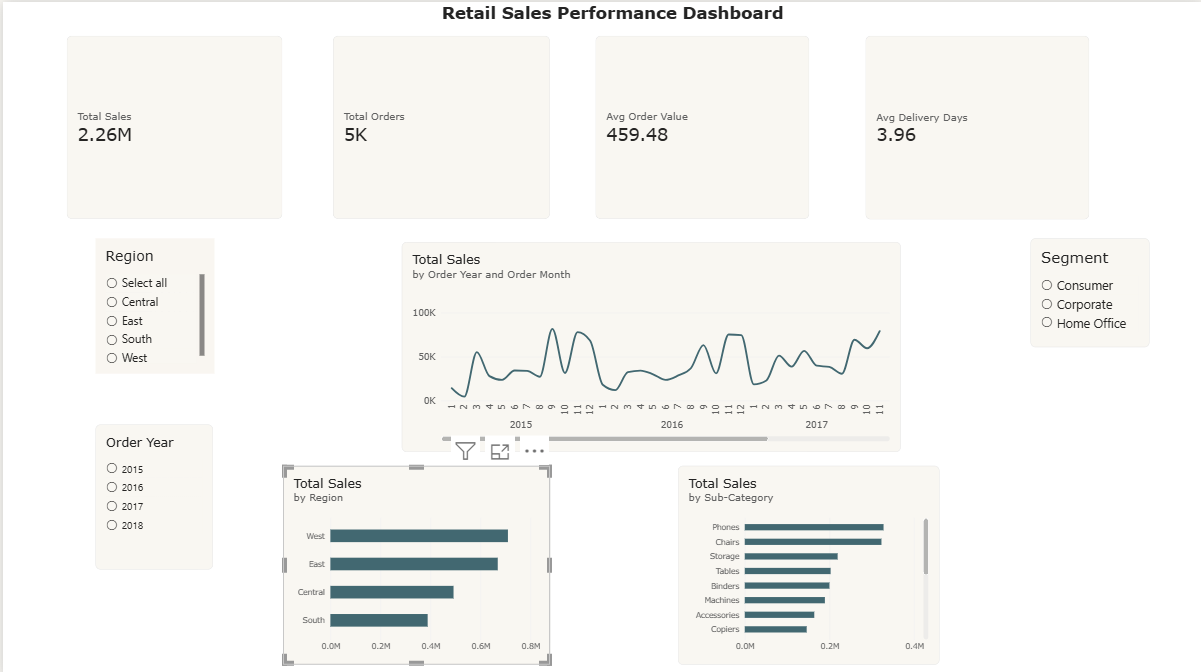

The dashboard page shown, as its layout file describes it:
{"tool":"powerbi","page":{"name":"Overview","canvas":[1920,1080],"ordinal":0},"visuals":[{"type":"cardVisual","fields":{"Data":["train_Cleaned.Total Sales"]},"box":[102,54,345.6,293.2],"z":0},{"type":"cardVisual","fields":{"Data":["train_Cleaned.Total Orders"]},"box":[528,54,347.5,293.2],"z":1},{"type":"cardVisual","fields":{"Data":["train_Cleaned.Avg Delivery Days"]},"box":[1380,54,358,294],"z":2},{"type":"cardVisual","fields":{"Data":["train_Cleaned.Avg Order Value"]},"box":[948,54,342,293.2],"z":3},{"type":"lineChart","fields":{"Category":["train_Cleaned.Order Year","train_Cleaned.Order Month"],"Y":["train_Cleaned.Total Sales"]},"box":[638,384,798,336],"z":4},{"type":"clusteredBarChart","fields":{"Category":["train_Cleaned.Region"],"Y":["train_Cleaned.Total Sales"]},"box":[448,742,428,318],"z":5},{"type":"clusteredBarChart","fields":{"Category":["train_Cleaned.Sub-Category"],"Y":["train_Cleaned.Total Sales"]},"box":[1080,742,418,318],"z":6},{"type":"listSlicer","fields":{"Values":["train_Cleaned.Region"]},"box":[148.4,378.2,190,217.2],"z":7},{"type":"listSlicer","fields":{"Values":["train_Cleaned.Segment"]},"box":[1644,378,190,174],"z":8},{"type":"listSlicer","fields":{"Values":["train_Cleaned.Order Year"]},"box":[148.4,676.8,188.2,231.6],"z":9},{"type":"textbox","box":[148,909,188,150],"z":10},{"type":"textbox","box":[702,0,638,54],"z":12},{"type":"textbox","box":[448,378,190,217],"z":13}]}

Visuals, with their boxes in screenshot pixels (x1, y1, x2, y2), scaled from the page's 1920x1080 canvas onto the 1201x672 screenshot:
cardVisual - train_Cleaned.Total Sales: {"x1": 64, "y1": 34, "x2": 280, "y2": 216}
cardVisual - train_Cleaned.Total Orders: {"x1": 330, "y1": 34, "x2": 548, "y2": 216}
cardVisual - train_Cleaned.Avg Delivery Days: {"x1": 863, "y1": 34, "x2": 1087, "y2": 217}
cardVisual - train_Cleaned.Avg Order Value: {"x1": 593, "y1": 34, "x2": 807, "y2": 216}
lineChart - train_Cleaned.Order Year x train_Cleaned.Order Month: {"x1": 399, "y1": 239, "x2": 898, "y2": 448}
clusteredBarChart - train_Cleaned.Region x train_Cleaned.Total Sales: {"x1": 280, "y1": 462, "x2": 548, "y2": 660}
clusteredBarChart - train_Cleaned.Sub-Category x train_Cleaned.Total Sales: {"x1": 676, "y1": 462, "x2": 937, "y2": 660}
listSlicer - train_Cleaned.Region: {"x1": 93, "y1": 235, "x2": 212, "y2": 370}
listSlicer - train_Cleaned.Segment: {"x1": 1028, "y1": 235, "x2": 1147, "y2": 343}
listSlicer - train_Cleaned.Order Year: {"x1": 93, "y1": 421, "x2": 211, "y2": 565}
textbox: {"x1": 93, "y1": 566, "x2": 210, "y2": 659}
textbox: {"x1": 439, "y1": 0, "x2": 838, "y2": 34}
textbox: {"x1": 280, "y1": 235, "x2": 399, "y2": 370}
